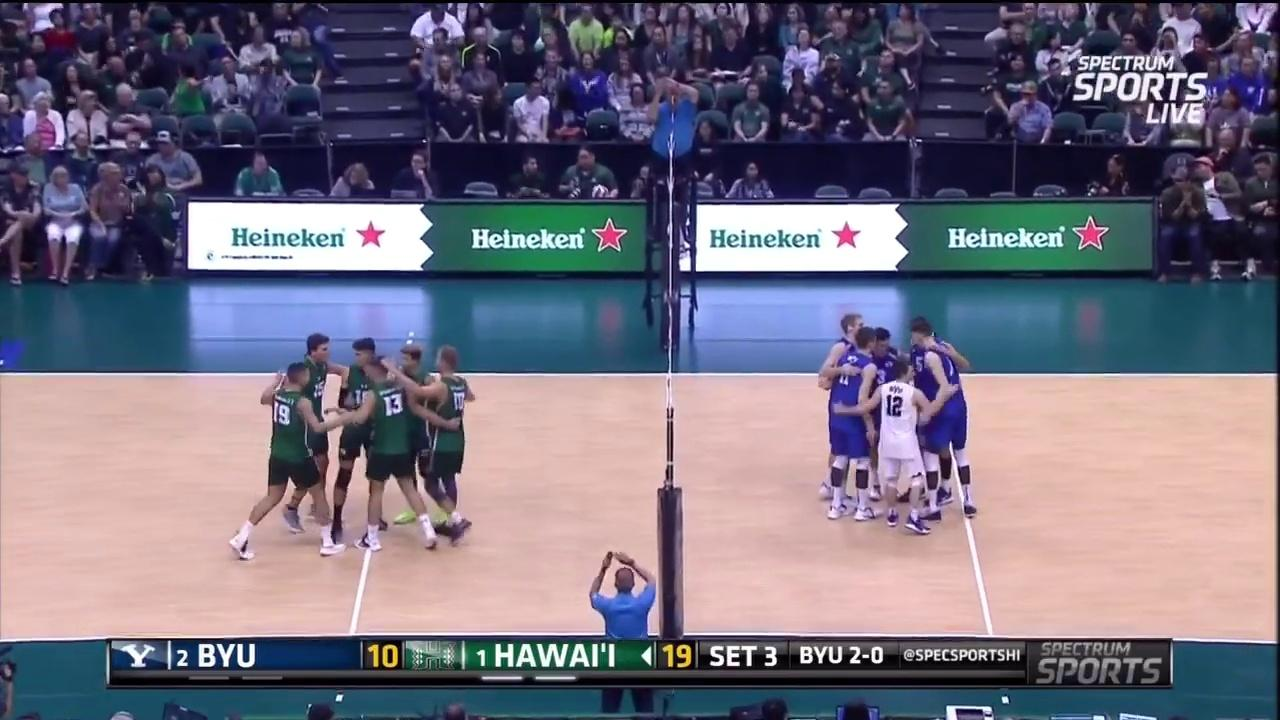player: (352, 354, 427, 567), (256, 359, 328, 564), (911, 324, 976, 530), (391, 333, 453, 526), (281, 321, 336, 529), (415, 347, 470, 537), (910, 311, 960, 509), (831, 327, 878, 533), (817, 313, 867, 502), (879, 358, 930, 534), (344, 329, 385, 543), (866, 325, 911, 504)
refree: (584, 544, 664, 716), (639, 74, 706, 232)
